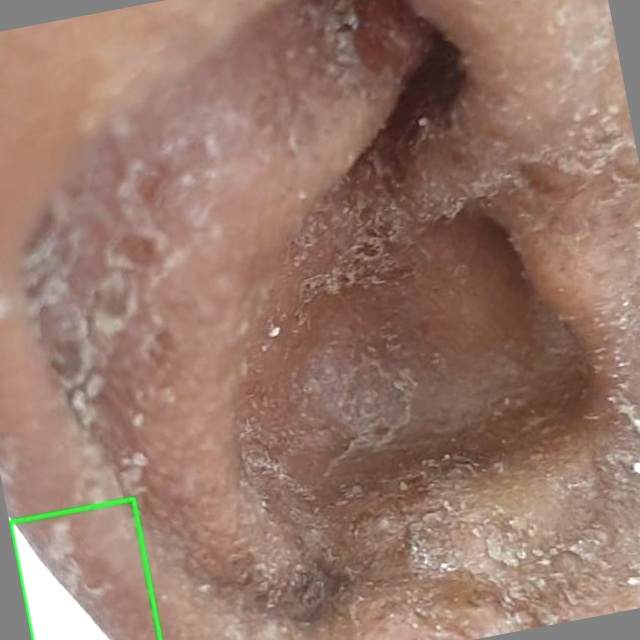Eczema: (10, 500, 160, 639)
